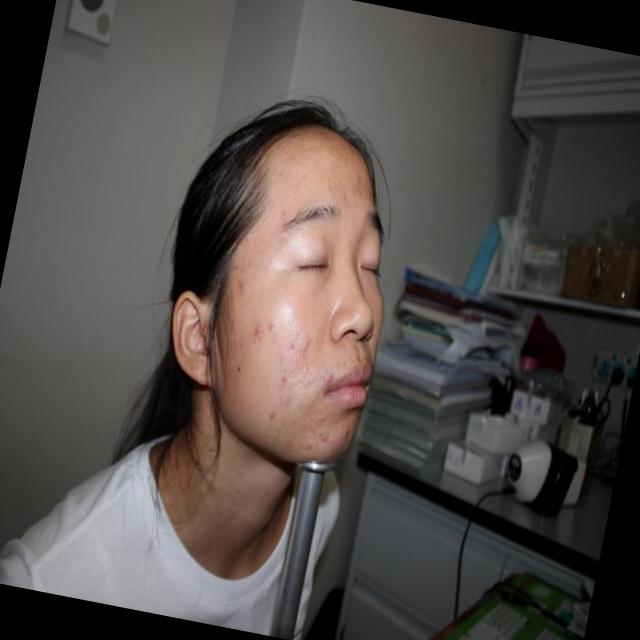acne: (312, 422, 333, 449), (298, 329, 316, 360), (335, 422, 355, 444), (285, 332, 300, 361), (299, 433, 317, 456), (232, 274, 248, 296), (250, 320, 266, 342), (276, 370, 292, 392), (264, 315, 278, 340), (266, 407, 278, 431)
